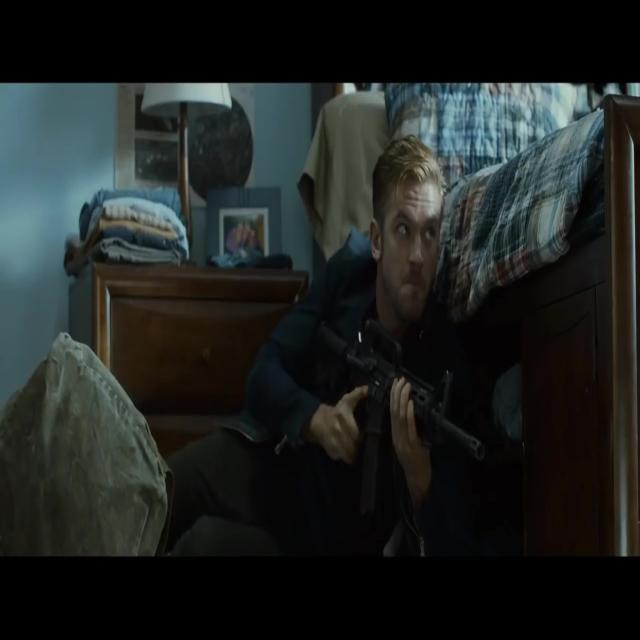Weapon: (266, 255, 529, 528)
